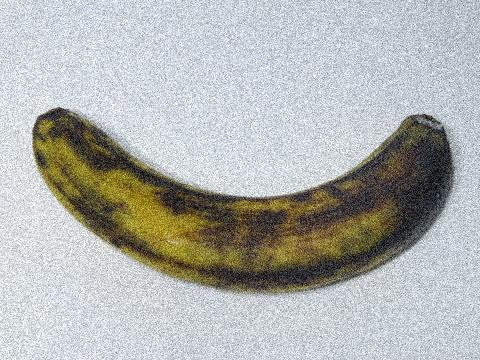overripe: (21, 90, 458, 311)
rotten: (359, 106, 470, 262)
